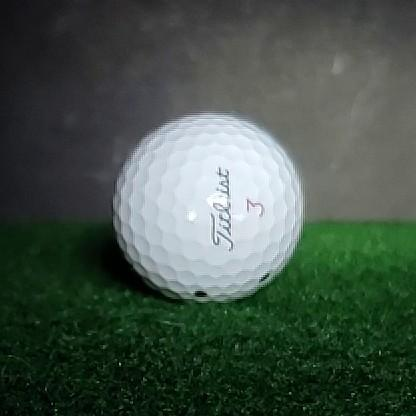golfball: (113, 114, 304, 303)
